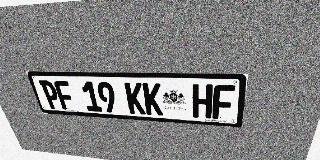1: (80, 81, 102, 112)
9: (96, 82, 118, 113)
F: (212, 85, 235, 120), (53, 81, 76, 110)
H: (192, 84, 213, 119)
K: (124, 82, 146, 115), (142, 83, 163, 116)
P: (39, 80, 62, 109)
